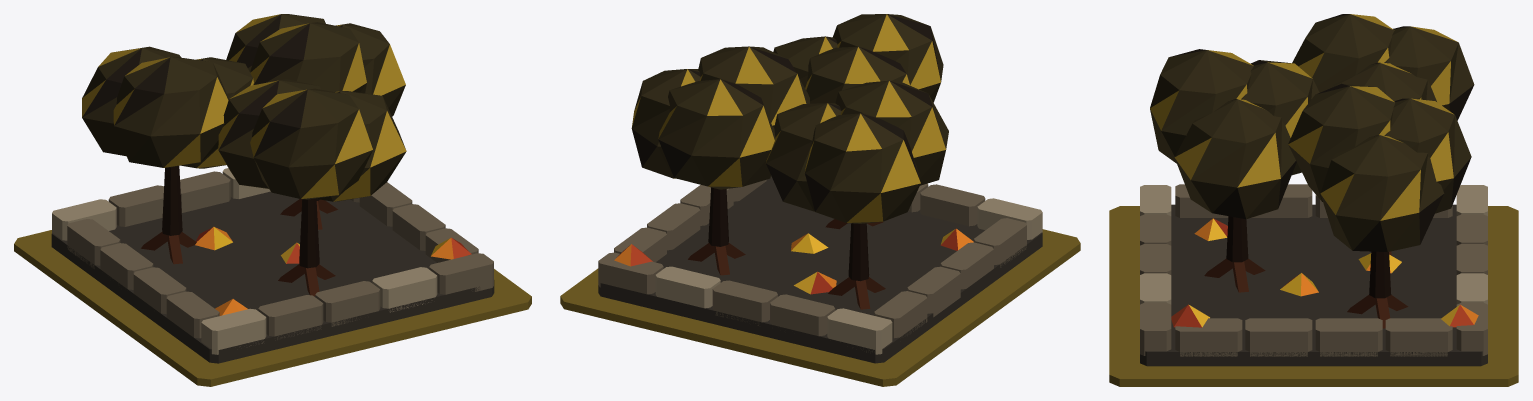
File: grove_t1.glb
The picture shows the model from 3 angles, left to right: view 1: azimuth 30°, elevation 25°; view 2: azimuth 150°, elevation 25°; view 3: azimuth 270°, elevation 25°; orthographic projection. The views are drawn at different scales.
Parts seen in each view (by area): view 1: MMR | grove | T01 Architecture.001, MMR | grove | Tier 01 Ground.001, MMR | grove | T01 Autumn Dressing.001; view 2: MMR | grove | T01 Architecture.001, MMR | grove | Tier 01 Ground.001, MMR | grove | T01 Autumn Dressing.001; view 3: MMR | grove | T01 Architecture.001, MMR | grove | Tier 01 Ground.001, MMR | grove | T01 Autumn Dressing.001.
Boxes of the visible parts, x1,y1,x2,y2 form: MMR | grove | T01 Architecture.001: (51, 14, 494, 363); MMR | grove | Tier 01 Ground.001: (14, 230, 531, 386); MMR | grove | T01 Autumn Dressing.001: (195, 226, 471, 315); MMR | grove | T01 Architecture.001: (598, 14, 1042, 363); MMR | grove | Tier 01 Ground.001: (560, 229, 1080, 386); MMR | grove | T01 Autumn Dressing.001: (614, 228, 973, 294); MMR | grove | T01 Architecture.001: (1140, 14, 1487, 366); MMR | grove | Tier 01 Ground.001: (1109, 206, 1518, 386); MMR | grove | T01 Autumn Dressing.001: (1171, 218, 1478, 327).
Bounding box in the file's own units: 2.35 × 1.54 × 2.35.
1 material, 1 textured.
